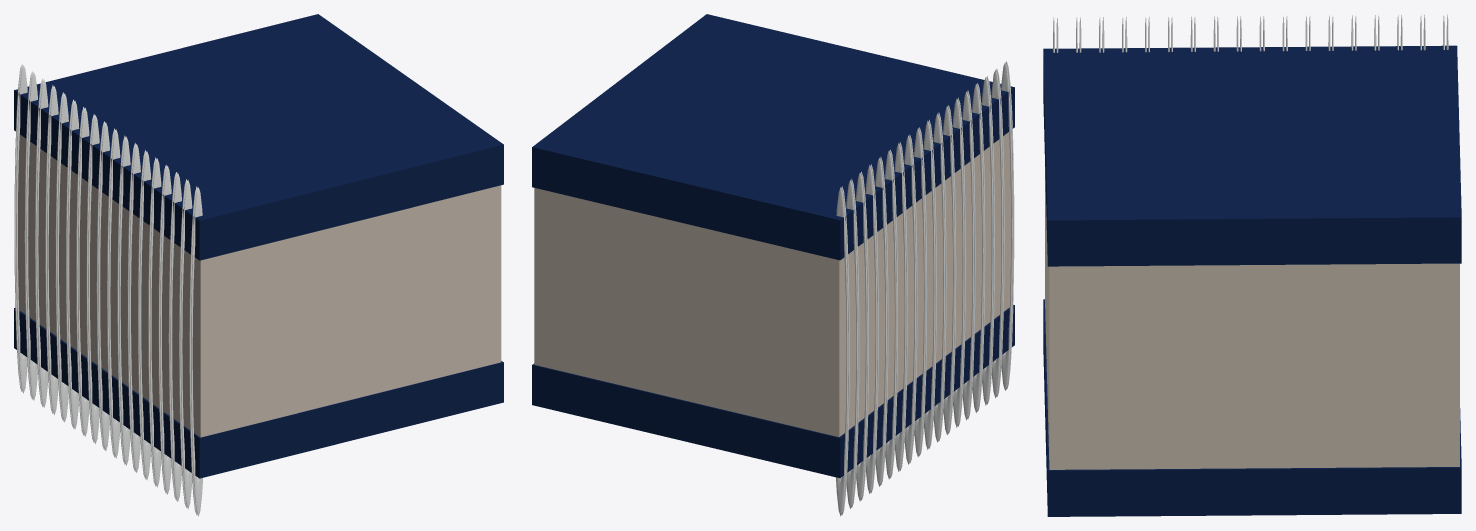
Rendered from notebook.glb.
3 renders of one model, left to right at view 1: azimuth 30°, elevation 25°; view 2: azimuth 150°, elevation 25°; view 3: azimuth 270°, elevation 25°, orthographic. The views are drawn at different scales.
Visible parts, largest first — view 1: pages_fitted, top_cover_fitted, bottom_cover_fitted, binding_wire.006_fitted, binding_wire.020_fitted, binding_wire.034_fitted, binding_wire.012_fitted, binding_wire.026_fitted, binding_wire.028_fitted, binding_wire.014_fitted, binding_wire.032_fitted, binding_wire.018_fitted (+27 smaller); view 2: pages_fitted, top_cover_fitted, bottom_cover_fitted, binding_wire.033_fitted, binding_wire.007_fitted, binding_wire.027_fitted, binding_wire.013_fitted, binding_wire.019_fitted, binding_wire.021_fitted, binding_wire.025_fitted, binding_wire.015_fitted, binding_wire.037_fitted (+27 smaller); view 3: top_cover_fitted, pages_fitted, bottom_cover_fitted.
Boxes of the visible parts, <box> form: pages_fitted: <box>18,134,501,437</box>; top_cover_fitted: <box>14,14,503,260</box>; bottom_cover_fitted: <box>14,308,503,478</box>; binding_wire.006_fitted: <box>170,173,181,501</box>; binding_wire.020_fitted: <box>98,122,109,451</box>; binding_wire.034_fitted: <box>26,71,37,400</box>; binding_wire.012_fitted: <box>139,151,151,479</box>; binding_wire.026_fitted: <box>67,101,79,429</box>; binding_wire.028_fitted: <box>57,93,68,422</box>; binding_wire.014_fitted: <box>129,144,140,472</box>; binding_wire.032_fitted: <box>36,78,48,407</box>; binding_wire.018_fitted: <box>108,129,120,458</box>; pages_fitted: <box>534,132,1010,436</box>; top_cover_fitted: <box>532,14,1014,260</box>; bottom_cover_fitted: <box>532,305,1014,478</box>; binding_wire.033_fitted: <box>856,173,867,501</box>; binding_wire.007_fitted: <box>981,77,993,405</box>; binding_wire.027_fitted: <box>885,150,896,479</box>; binding_wire.013_fitted: <box>952,99,964,427</box>; binding_wire.019_fitted: <box>923,121,935,450</box>; binding_wire.021_fitted: <box>914,128,925,457</box>; binding_wire.025_fitted: <box>894,143,906,472</box>; binding_wire.015_fitted: <box>943,106,954,435</box>; binding_wire.037_fitted: <box>836,187,848,516</box>; top_cover_fitted: <box>1043,45,1461,266</box>; pages_fitted: <box>1045,167,1459,469</box>; bottom_cover_fitted: <box>1043,299,1461,516</box>.
Size of the model in its own units: 1 by 1 by 1.
